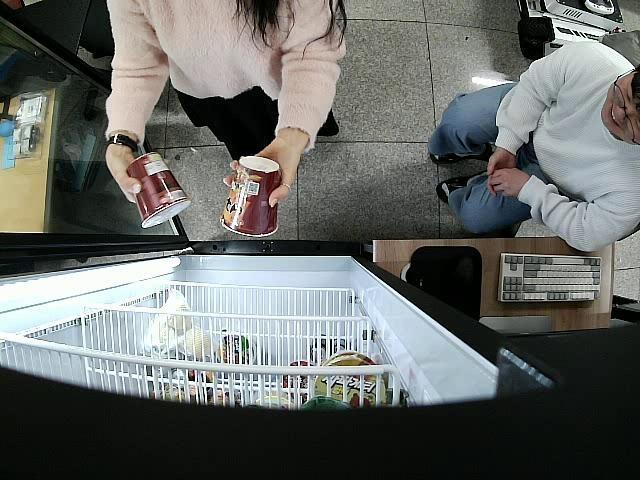06_nuguri_S: (125, 151, 191, 232), (220, 156, 282, 238)
